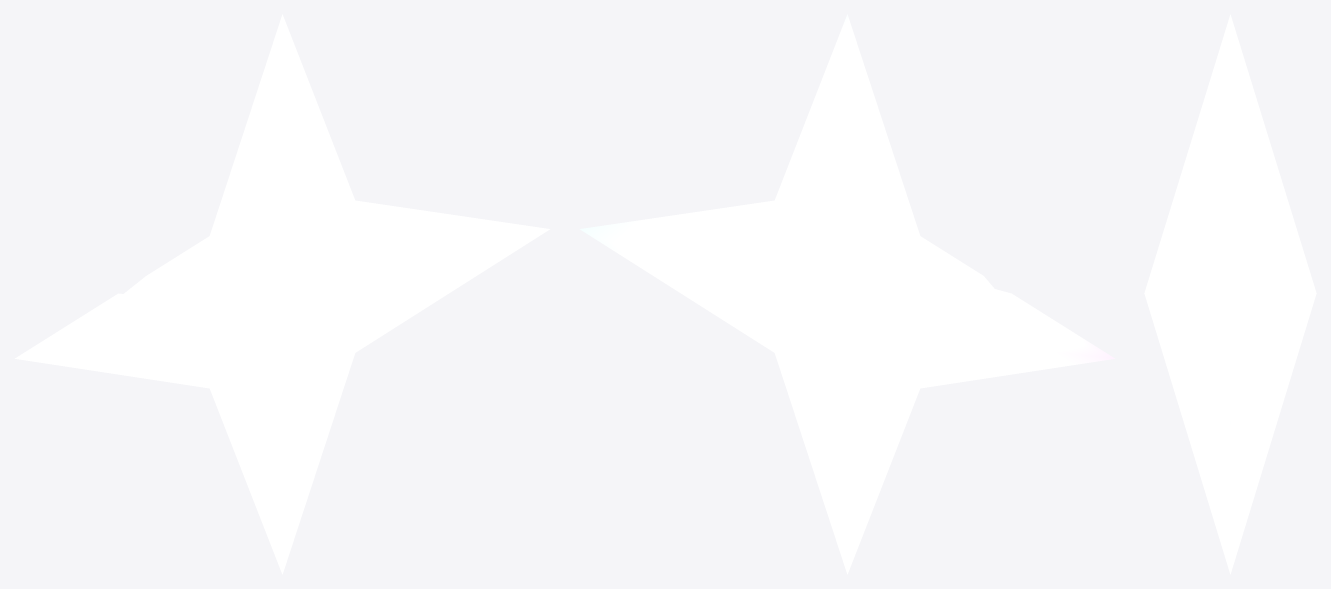
The picture shows the model from 3 angles, left to right: view 1: azimuth 30°, elevation 25°; view 2: azimuth 150°, elevation 25°; view 3: azimuth 270°, elevation 25°; orthographic projection.
Parts seen in each view (by area): view 1: SM_Gorse_05_LOD0; view 2: SM_Gorse_05_LOD0; view 3: SM_Gorse_05_LOD0.
Part boxes in pixels (box(x1,y1,x2,y2)): SM_Gorse_05_LOD0: box(15, 14, 549, 574); SM_Gorse_05_LOD0: box(580, 14, 1114, 574); SM_Gorse_05_LOD0: box(1144, 14, 1316, 574).
Size of the model in its own units: 0.8944 by 0.8944 by 0.249.
